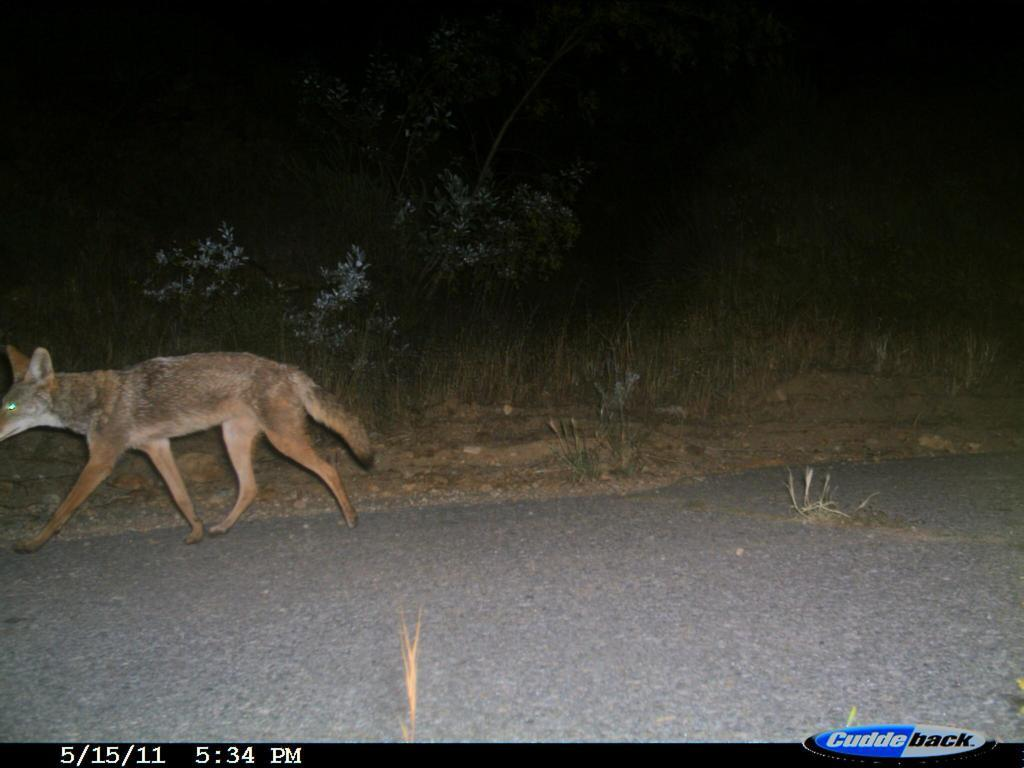coyote: (4, 313, 386, 566)
